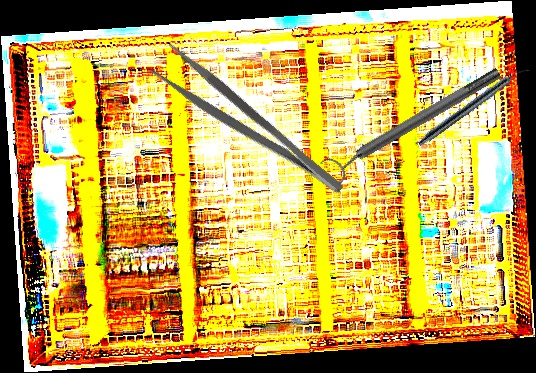Dressing Forceps: (147, 40, 348, 213)
Fixation Ring: (318, 60, 508, 188)
Handpiece: (416, 62, 531, 150)
